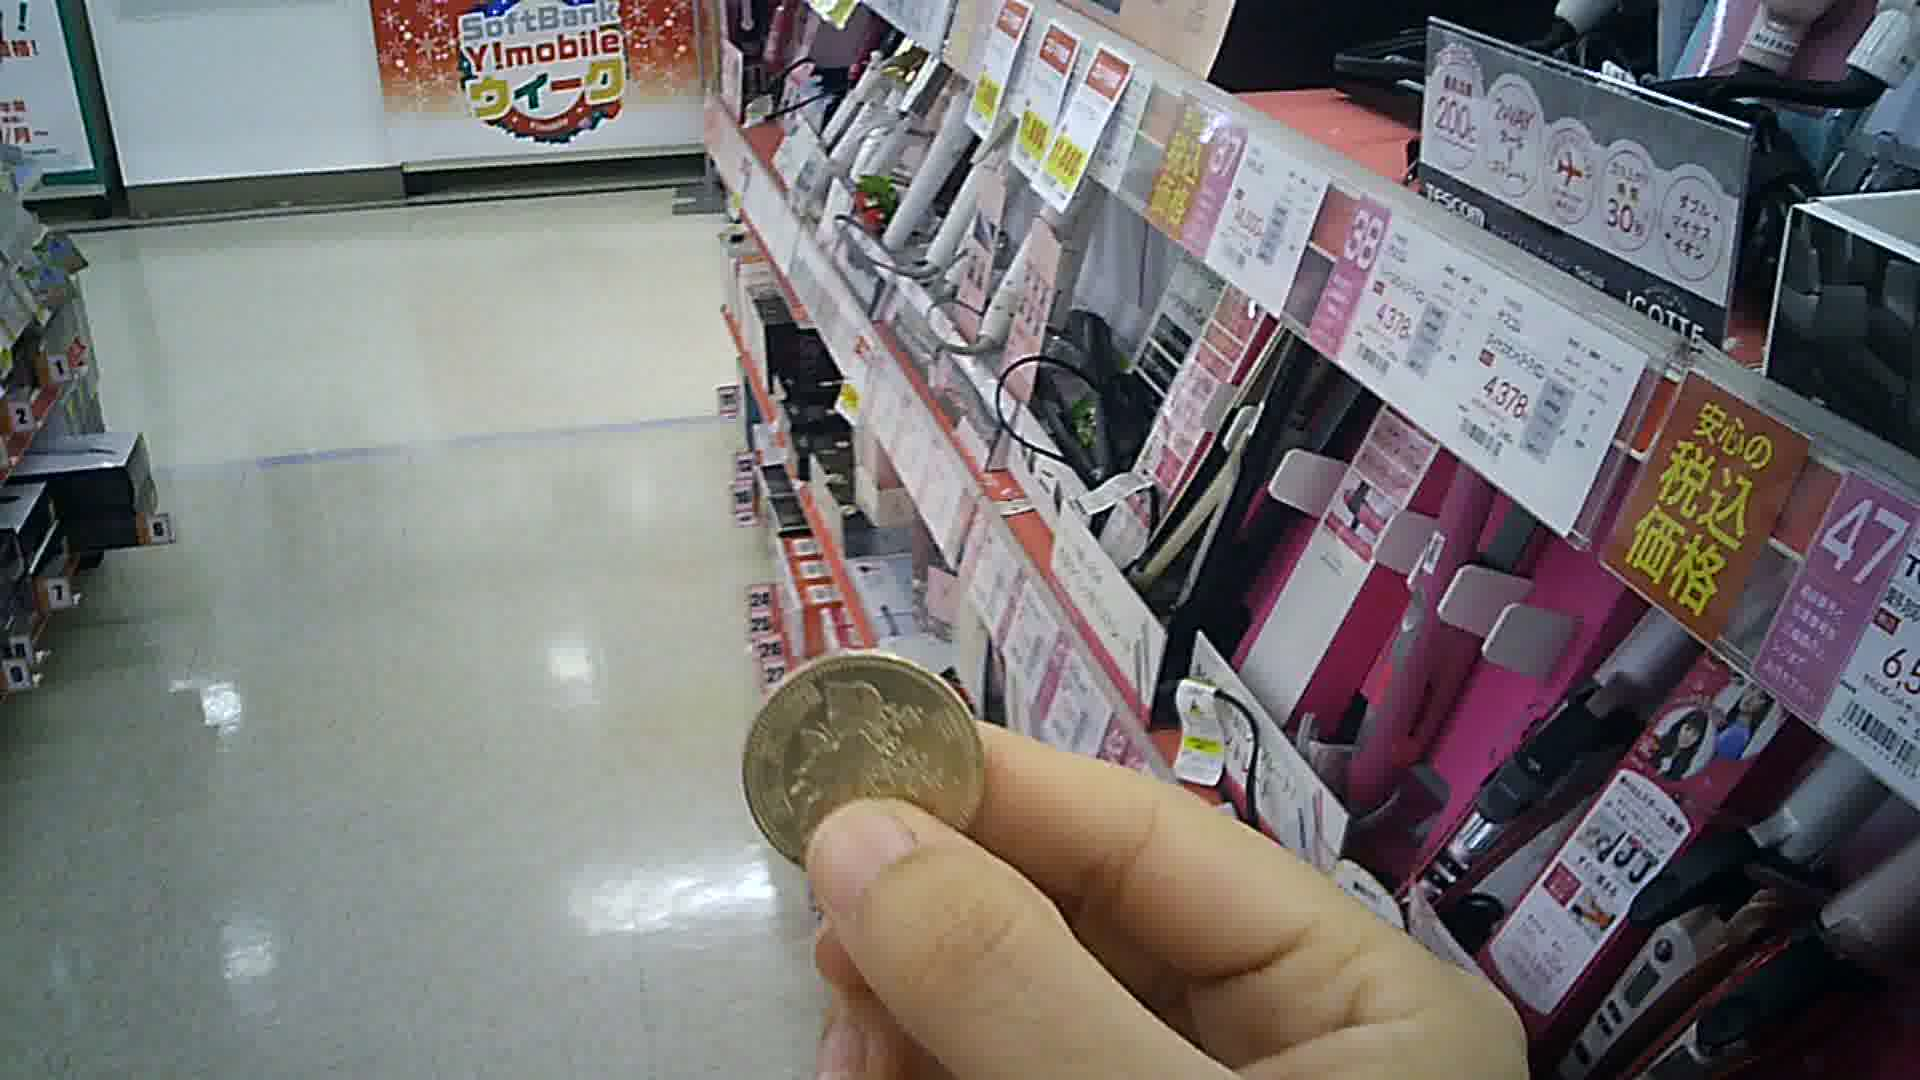500 Yen: (735, 657, 996, 880)
